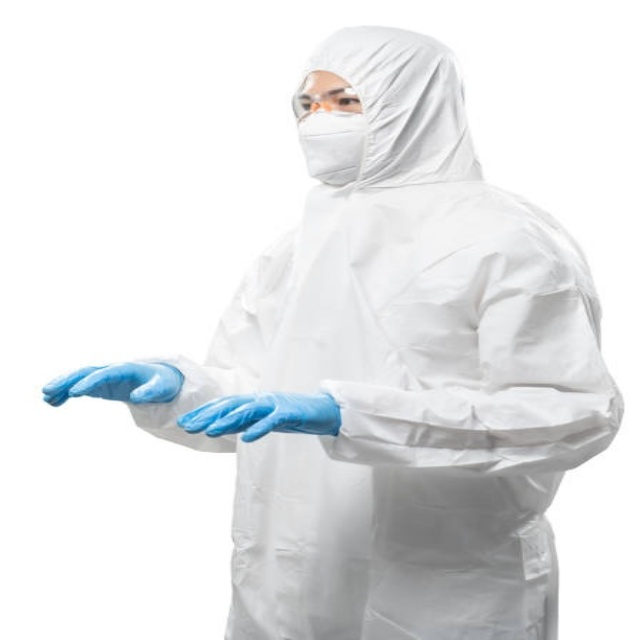Gafas: (295, 87, 362, 119)
Guantes: (180, 389, 340, 443), (45, 360, 184, 408)
Mascara: (296, 107, 370, 183)
